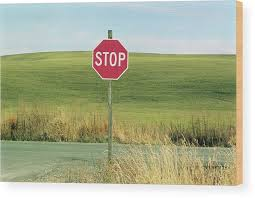Stop: (85, 33, 132, 89)
